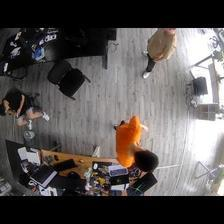normal: (112, 117, 158, 172), (2, 87, 50, 129), (140, 26, 176, 82)
